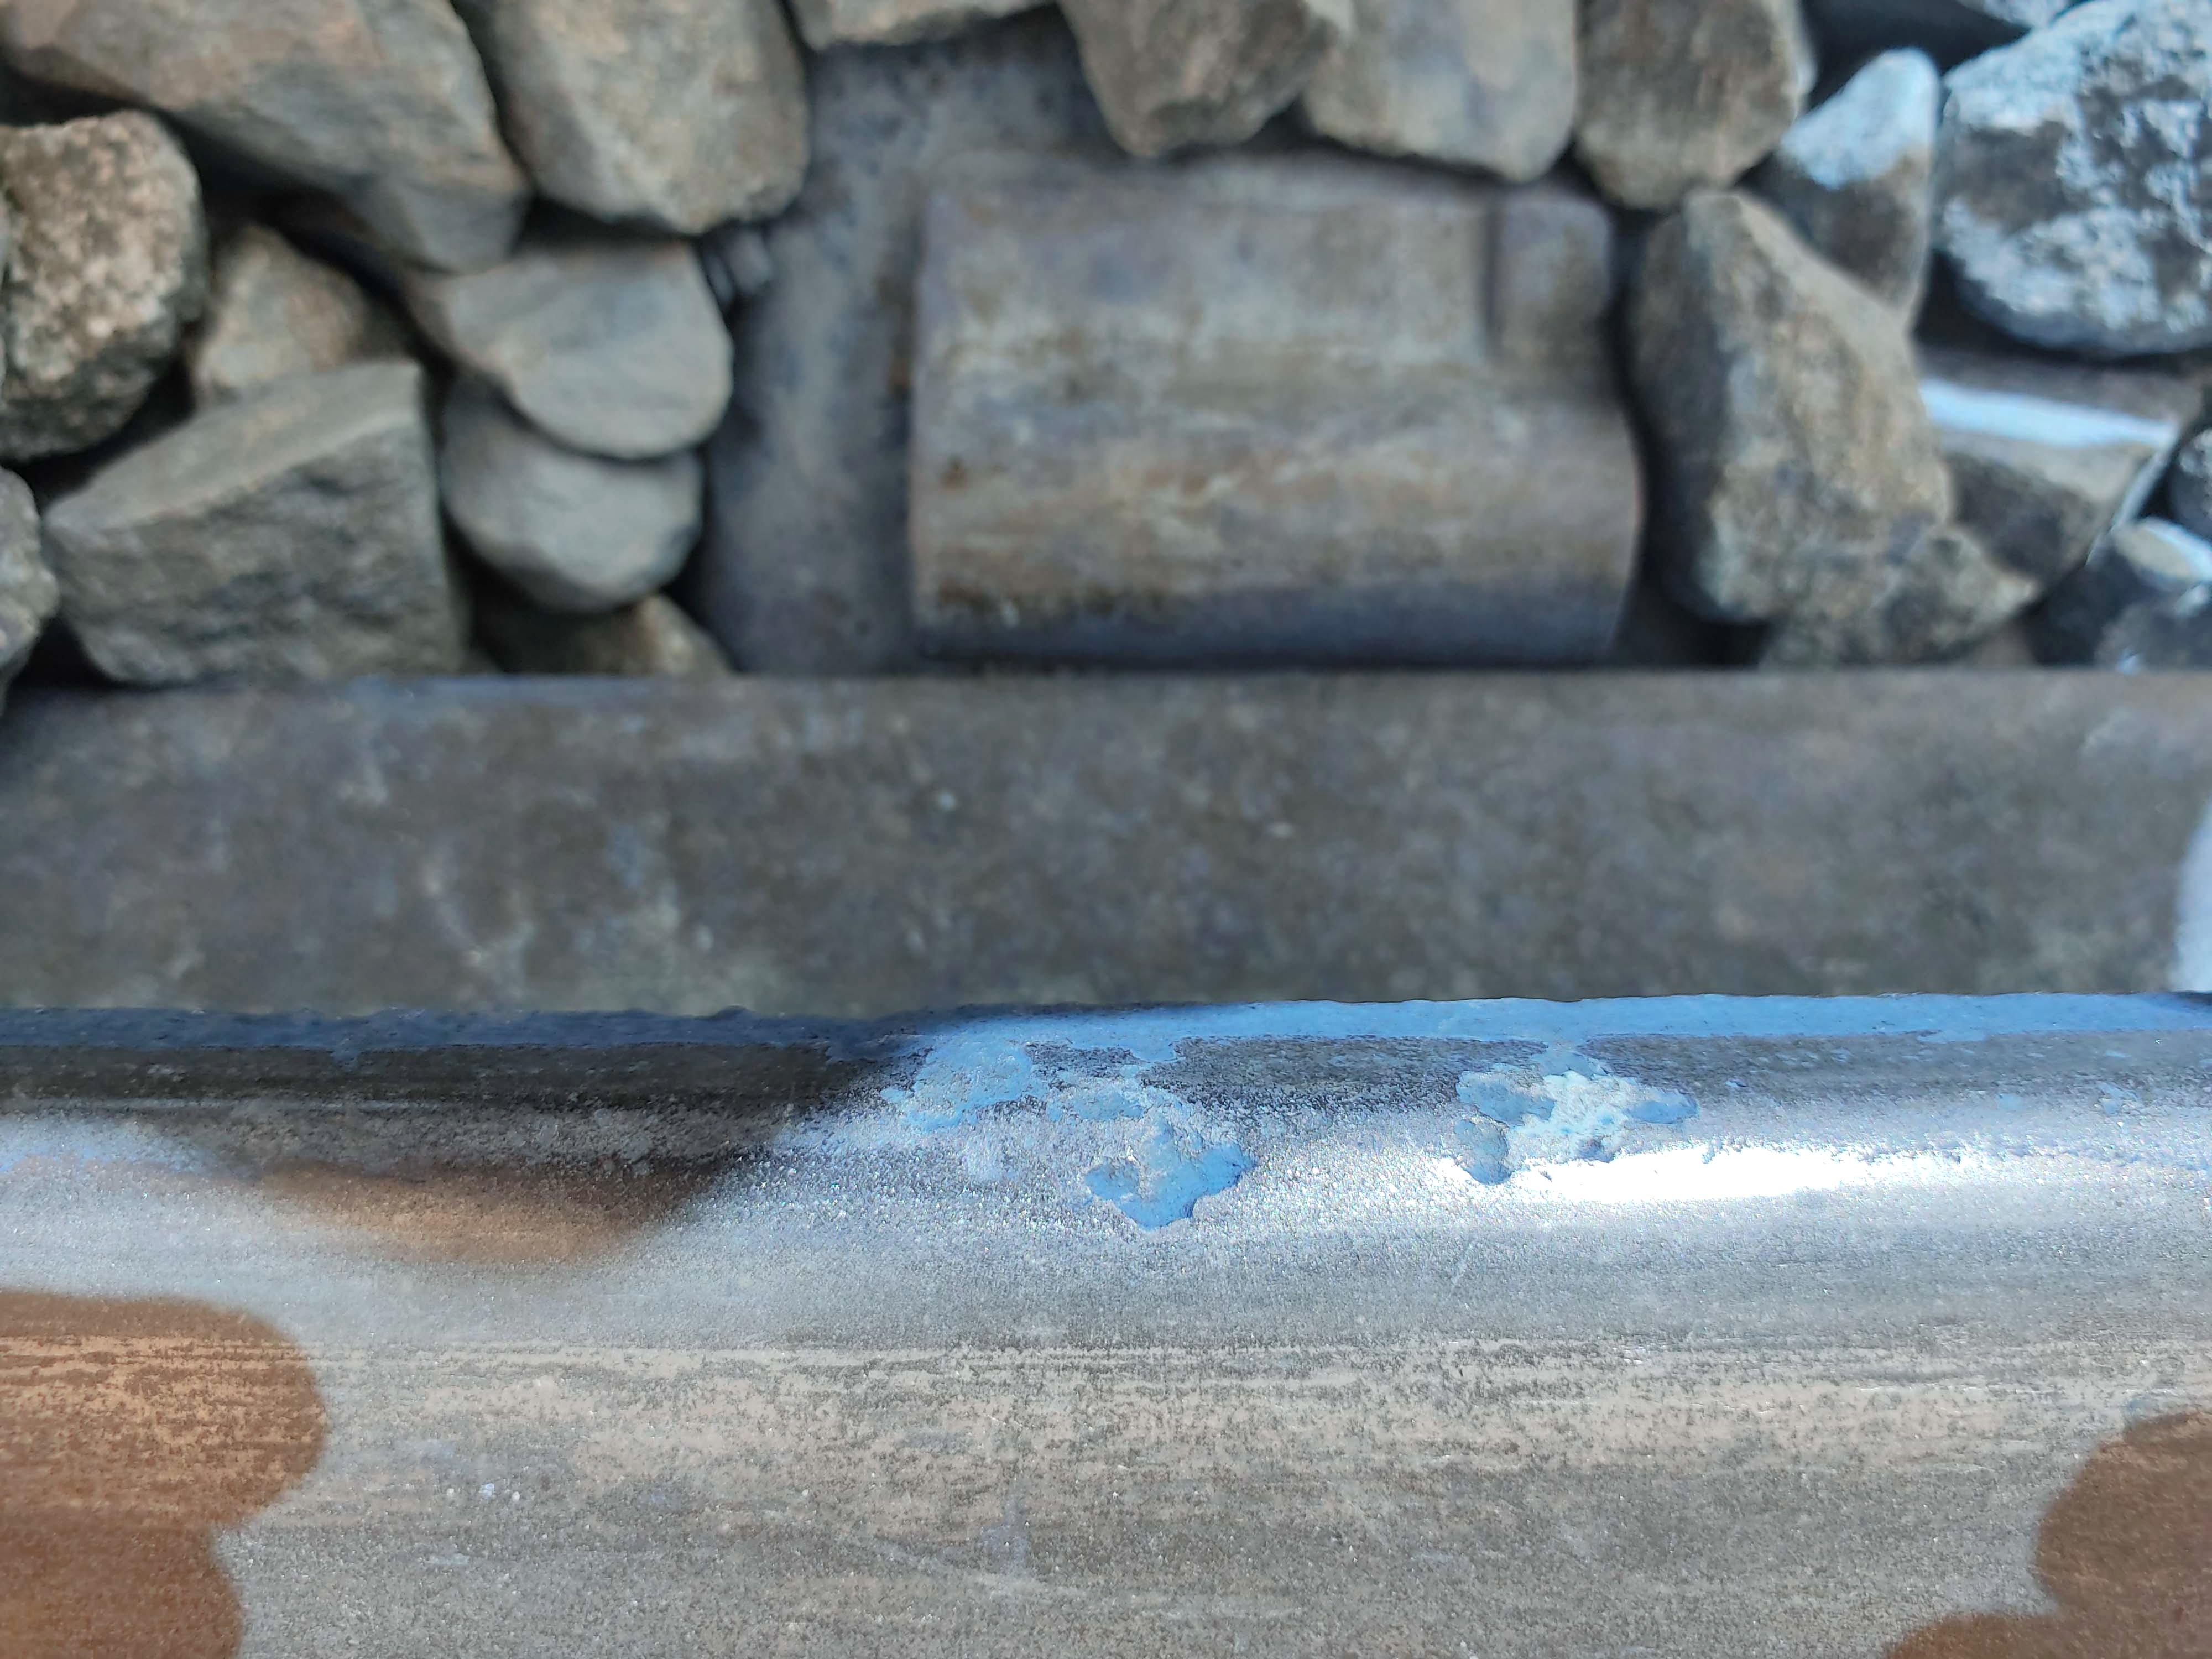error1: (860, 110, 1698, 713)
